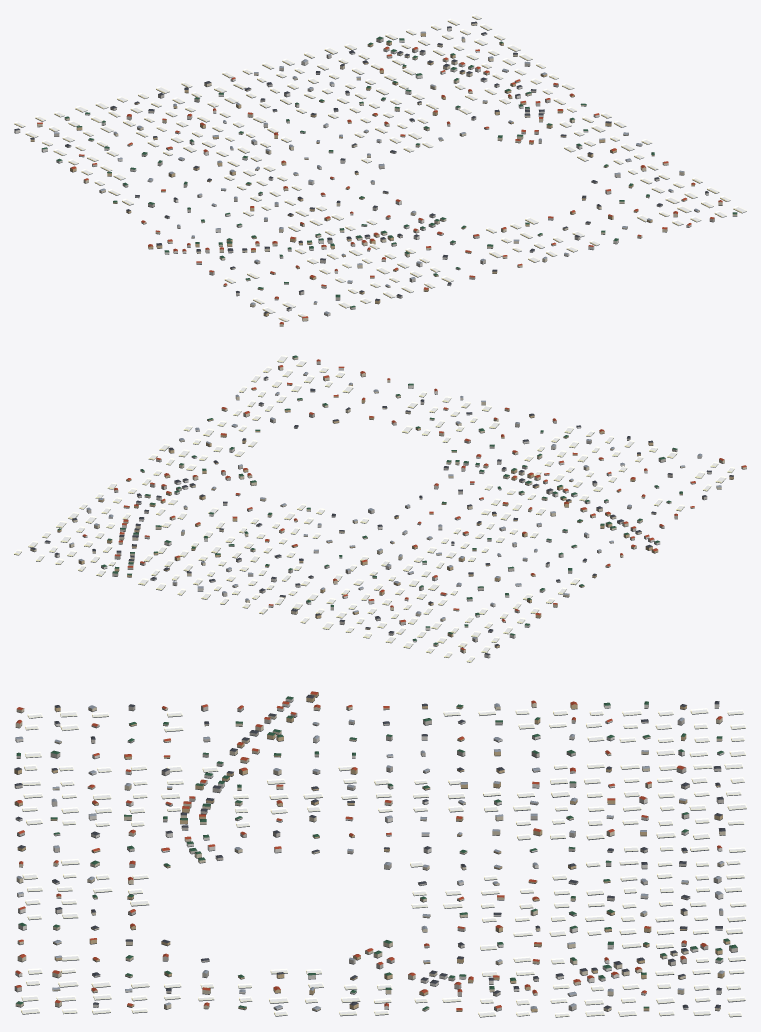
The model's file is buildings_T_E10_S05.glb.
The picture shows the model from 3 angles, top to bottom: view 1: azimuth 30°, elevation 25°; view 2: azimuth 150°, elevation 25°; view 3: azimuth 270°, elevation 25°; orthographic projection. The views are drawn at different scales.
Visible parts, largest first — view 1: T_E10_S05_roofs_agri_greenhouse_arch, T_E10_S05_slope_seating_foundations, T_E10_S05_walls_wall_dalat_cream_stucco, T_E10_S05_walls_wall_pastel_sand_gray, T_E10_S05_walls_wall_french_ochre_villa, T_E10_S05_roofs_roof_terracotta_gable, T_E10_S05_roofs_roof_pine_green_hip, T_E10_S05_walls_wall_modern_warm_white, T_E10_S05_roofs_roof_slate_French_villa_hip, T_E10_S05_roofs_roof_zinc_silver_gable; view 2: T_E10_S05_roofs_agri_greenhouse_arch, T_E10_S05_slope_seating_foundations, T_E10_S05_walls_wall_dalat_cream_stucco, T_E10_S05_walls_wall_pastel_sand_gray, T_E10_S05_walls_wall_french_ochre_villa, T_E10_S05_roofs_roof_terracotta_gable, T_E10_S05_roofs_roof_pine_green_hip, T_E10_S05_roofs_roof_slate_French_villa_hip, T_E10_S05_walls_wall_modern_warm_white, T_E10_S05_roofs_roof_zinc_silver_gable; view 3: T_E10_S05_roofs_agri_greenhouse_arch, T_E10_S05_slope_seating_foundations, T_E10_S05_walls_wall_dalat_cream_stucco, T_E10_S05_walls_wall_pastel_sand_gray, T_E10_S05_walls_wall_french_ochre_villa, T_E10_S05_roofs_roof_terracotta_gable, T_E10_S05_roofs_roof_pine_green_hip, T_E10_S05_roofs_roof_slate_French_villa_hip, T_E10_S05_walls_wall_modern_warm_white, T_E10_S05_roofs_roof_zinc_silver_gable.
Part boxes in pixels (x1,y1,x2,y2): T_E10_S05_roofs_agri_greenhouse_arch: (14, 14, 746, 321); T_E10_S05_slope_seating_foundations: (14, 16, 746, 326); T_E10_S05_walls_wall_dalat_cream_stucco: (37, 23, 737, 326); T_E10_S05_walls_wall_pastel_sand_gray: (54, 38, 714, 309); T_E10_S05_walls_wall_french_ochre_villa: (30, 32, 694, 316); T_E10_S05_roofs_roof_terracotta_gable: (37, 46, 722, 324); T_E10_S05_roofs_roof_pine_green_hip: (42, 36, 737, 307); T_E10_S05_walls_wall_modern_warm_white: (14, 27, 708, 315); T_E10_S05_roofs_roof_slate_French_villa_hip: (14, 21, 708, 313); T_E10_S05_roofs_roof_zinc_silver_gable: (54, 31, 699, 313); T_E10_S05_roofs_agri_greenhouse_arch: (14, 355, 734, 662); T_E10_S05_slope_seating_foundations: (14, 357, 746, 662); T_E10_S05_walls_wall_dalat_cream_stucco: (30, 357, 746, 653); T_E10_S05_walls_wall_pastel_sand_gray: (86, 361, 707, 641); T_E10_S05_walls_wall_french_ochre_villa: (57, 384, 733, 647); T_E10_S05_roofs_roof_terracotta_gable: (82, 359, 746, 650); T_E10_S05_roofs_roof_pine_green_hip: (57, 355, 682, 644); T_E10_S05_roofs_roof_slate_French_villa_hip: (30, 376, 733, 655); T_E10_S05_walls_wall_modern_warm_white: (44, 368, 711, 657); T_E10_S05_roofs_roof_zinc_silver_gable: (69, 372, 721, 638); T_E10_S05_roofs_agri_greenhouse_arch: (21, 708, 746, 1016); T_E10_S05_slope_seating_foundations: (14, 695, 746, 1017); T_E10_S05_walls_wall_dalat_cream_stucco: (15, 702, 725, 1011); T_E10_S05_walls_wall_pastel_sand_gray: (14, 706, 737, 1010); T_E10_S05_walls_wall_french_ochre_villa: (14, 692, 730, 1011); T_E10_S05_roofs_roof_terracotta_gable: (15, 691, 722, 1010); T_E10_S05_roofs_roof_pine_green_hip: (16, 696, 737, 1009); T_E10_S05_roofs_roof_slate_French_villa_hip: (14, 694, 725, 1008); T_E10_S05_walls_wall_modern_warm_white: (15, 698, 724, 1009); T_E10_S05_roofs_roof_zinc_silver_gable: (15, 703, 724, 1009).
Size of the model in its own units: 1798 by 32.45 by 1751.
